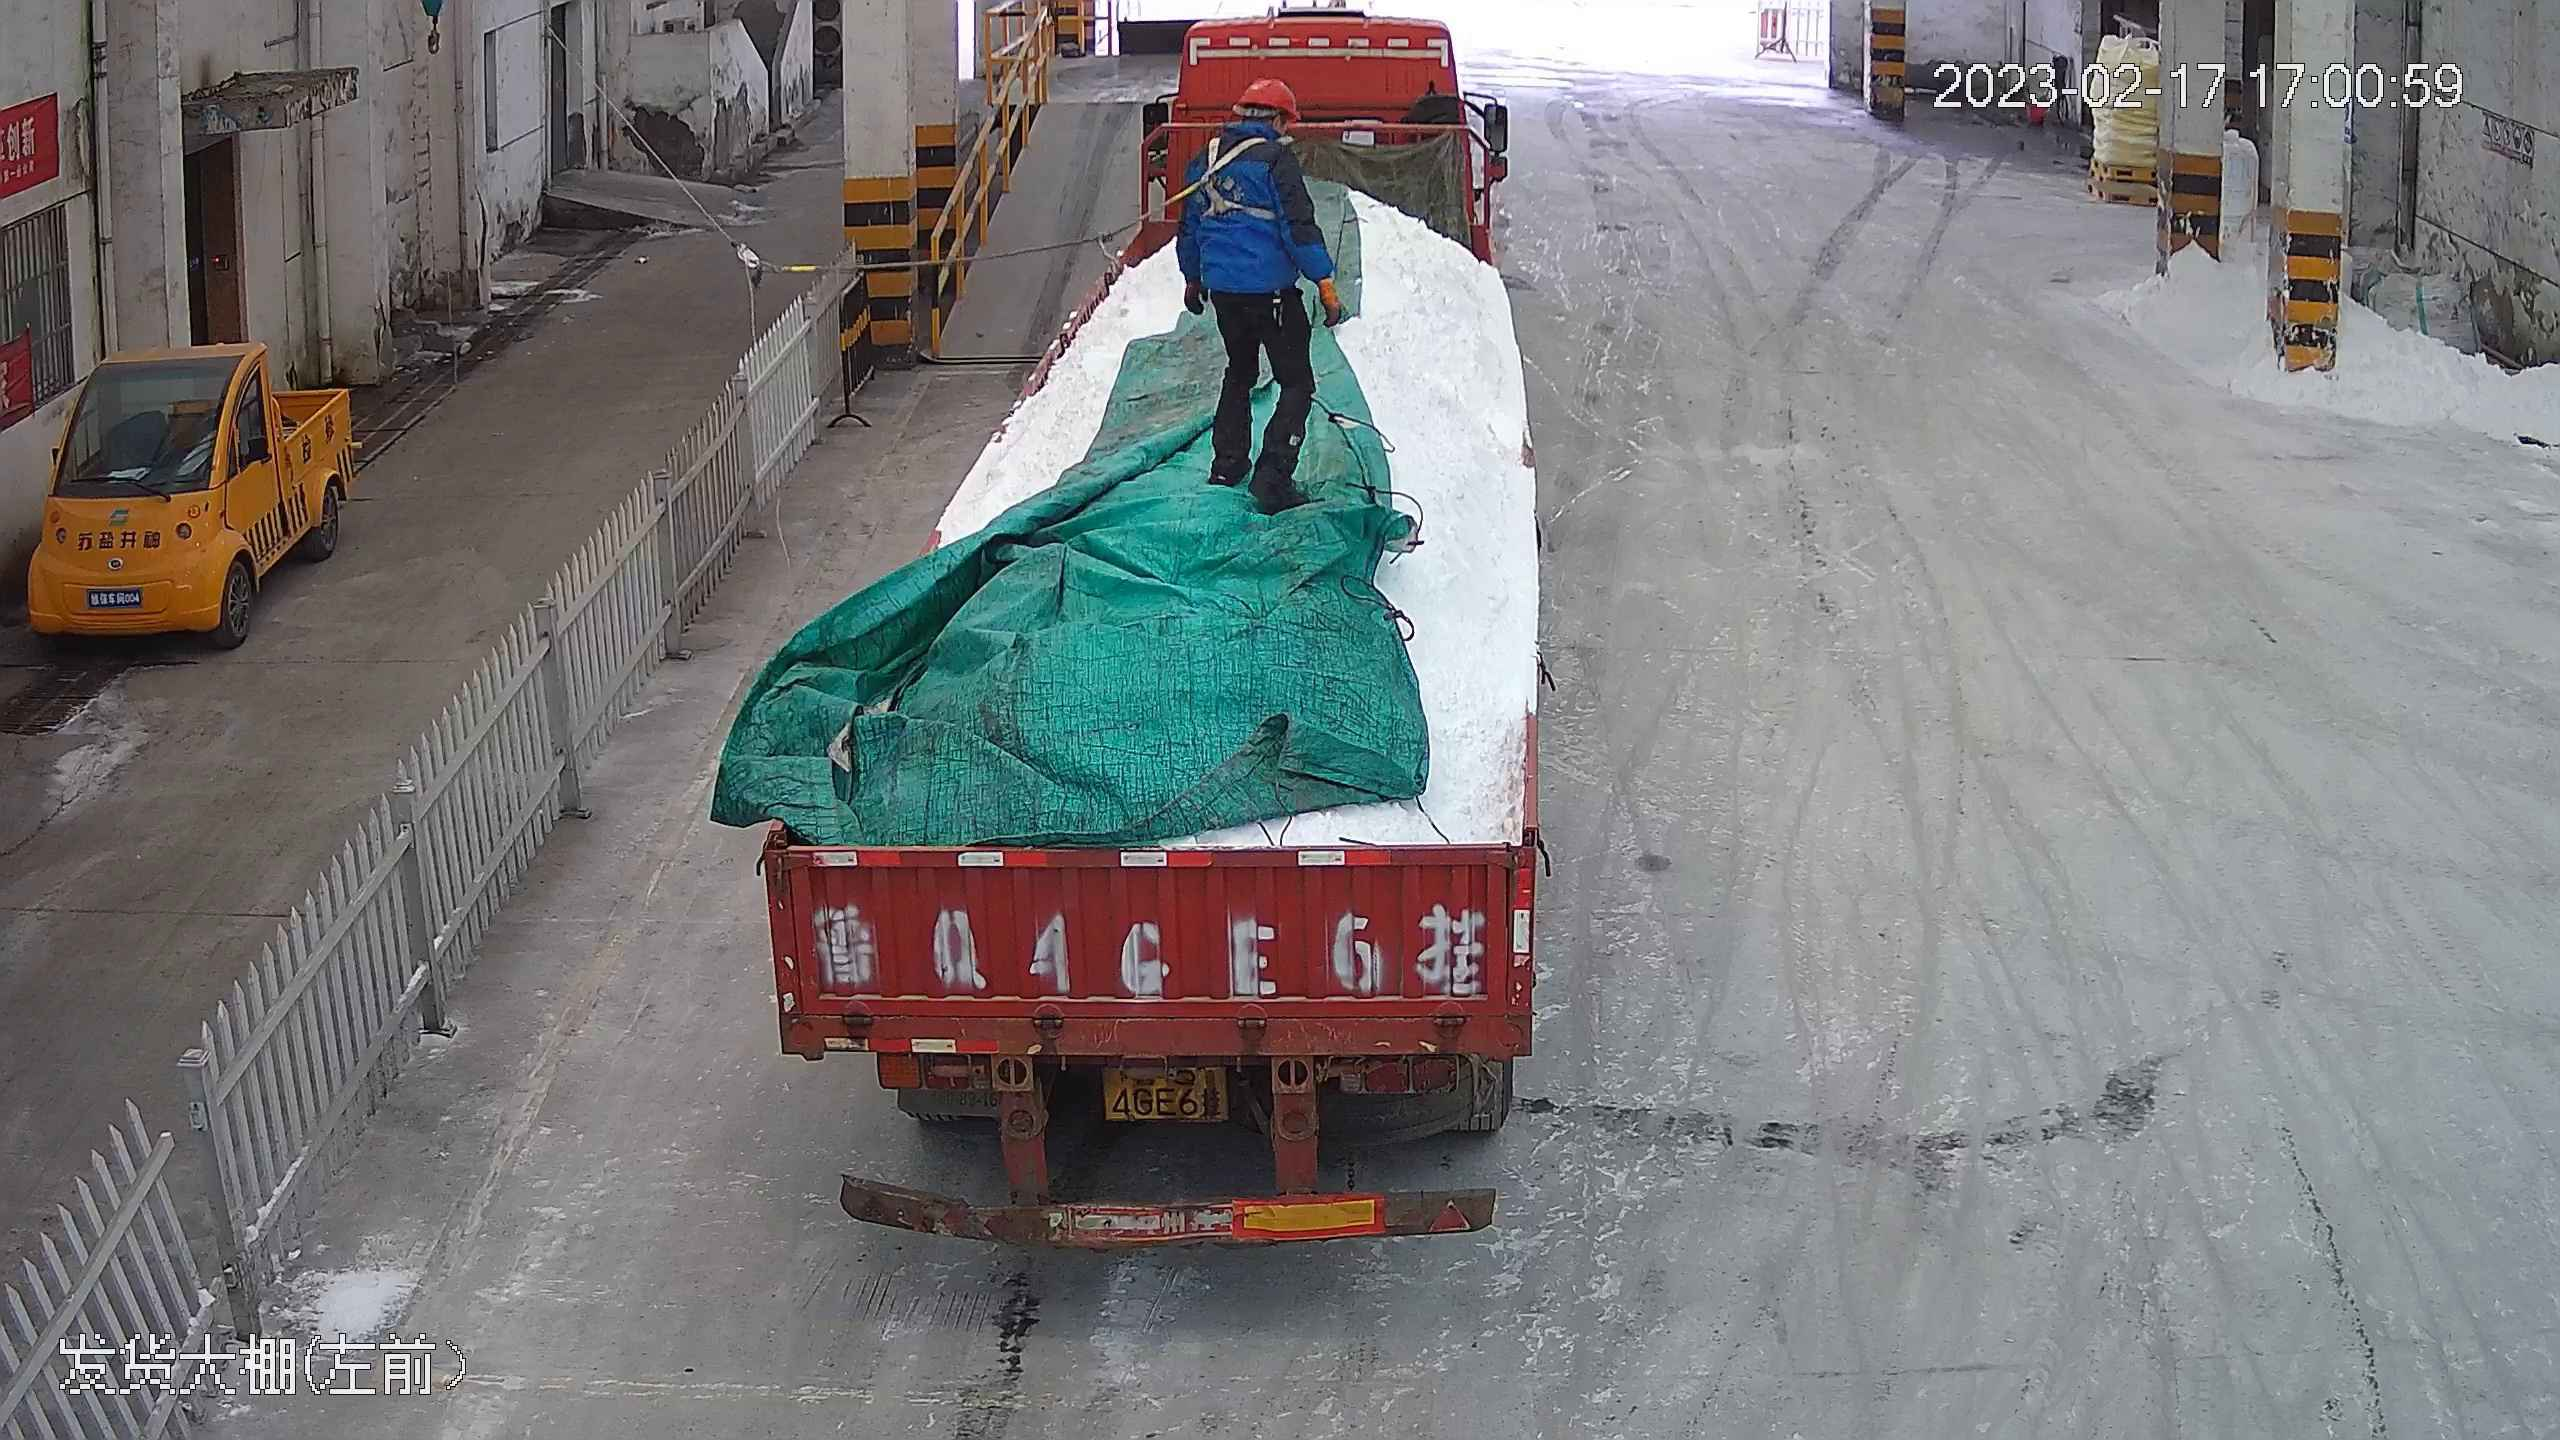belt: (1175, 129, 1262, 213)
head: (1195, 79, 1309, 183)
helmet: (1242, 71, 1300, 127)
people: (1169, 78, 1337, 513)
truck: (756, 9, 1521, 1258)
